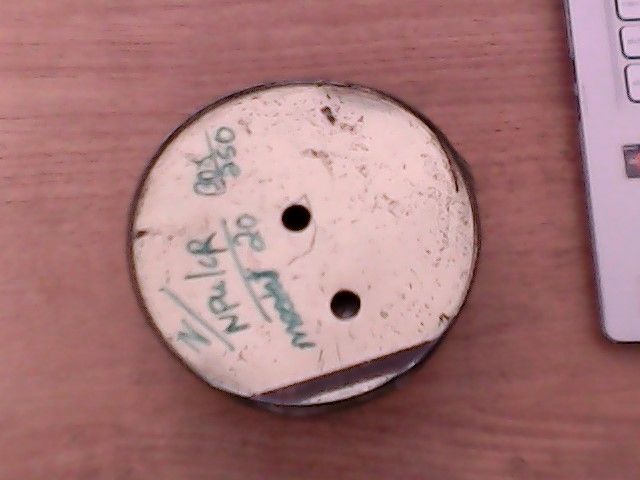Metal: (113, 81, 485, 419)
